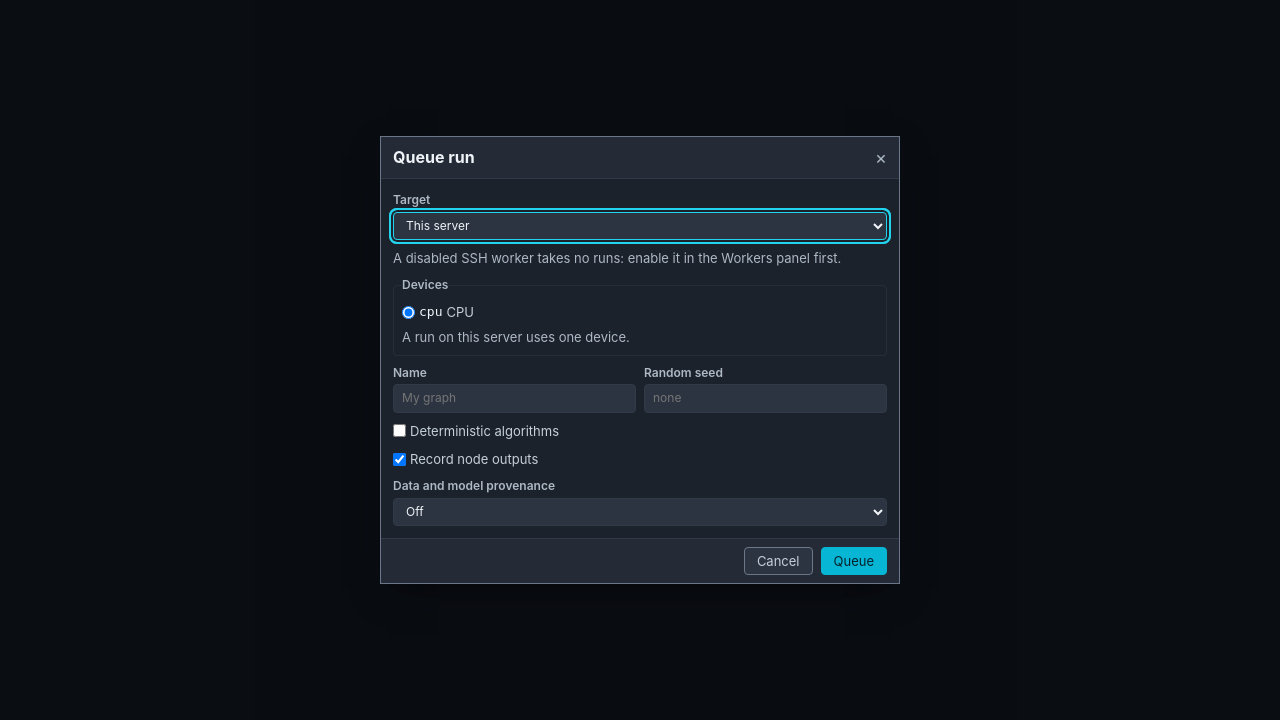
Test: QueueRunDialog: workers › lists workers with status and devices, offline and disconnected ones too, disabling the drained
The width and height of the screenshot is (1280, 720).
Expected: the text "A disabled SSH worker takes no runs: enable it in the Workers panel first." is shown, [393,248,887,268]
Expected: the text "is offline" is not shown
Select "cold-box (Offline): cpu, cuda:0, cuda:1, cuda:2" in the dropdown labelled "Target" at (640, 226), box [393,212,887,240]
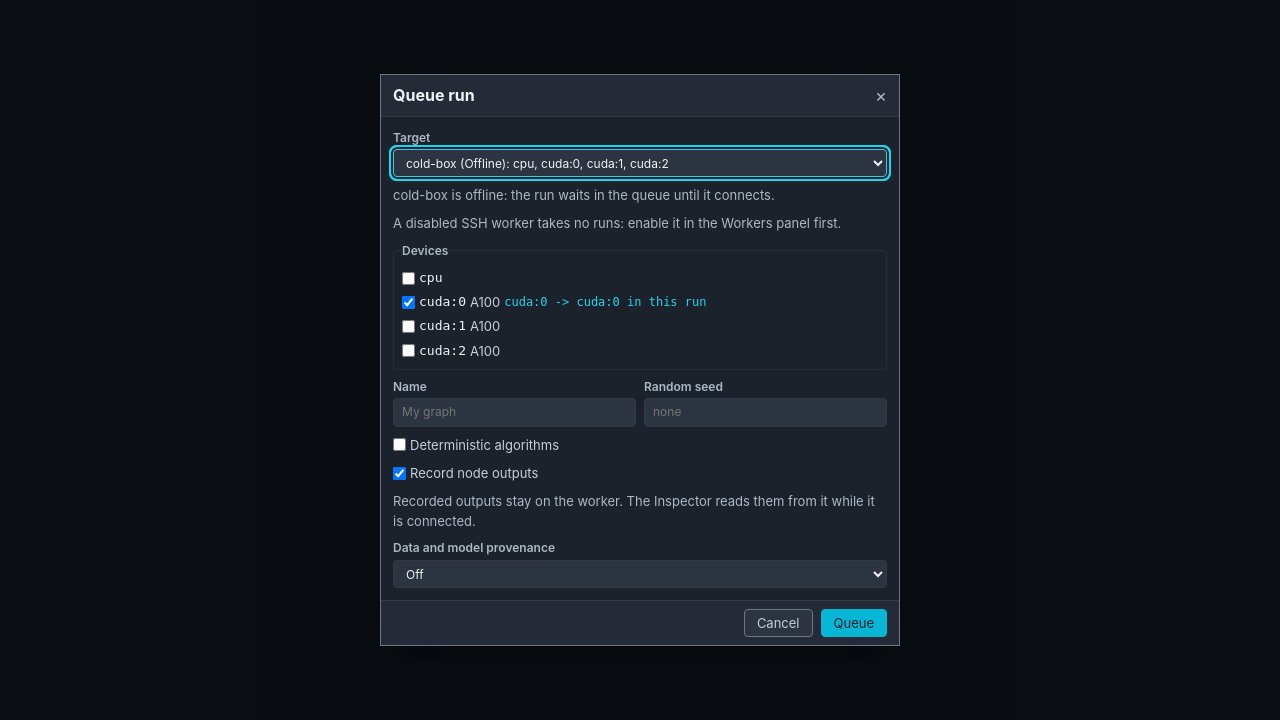
Expected: the text "cold-box is offline: the run waits in the queue until it connects." is shown, [393,187,775,203]
A disconnected one too, as the server accepts it (#840).
Select "gone-box (Disconnected): cpu, cuda:0, cuda:1, cuda:2" in the dropdown labelled "Target" at (640, 163), box [393,149,887,177]
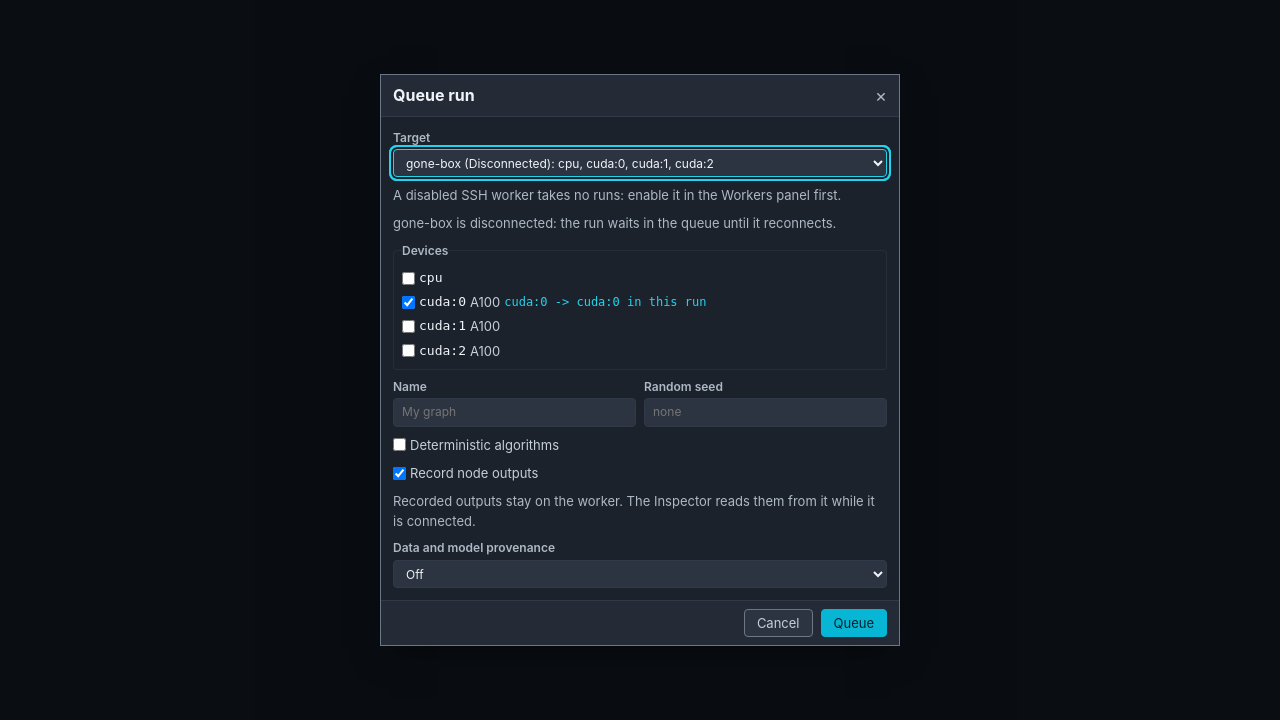
Expected: the text "gone-box is disconnected: the run waits in the queue until it reconnects." is shown, [393,213,887,234]
